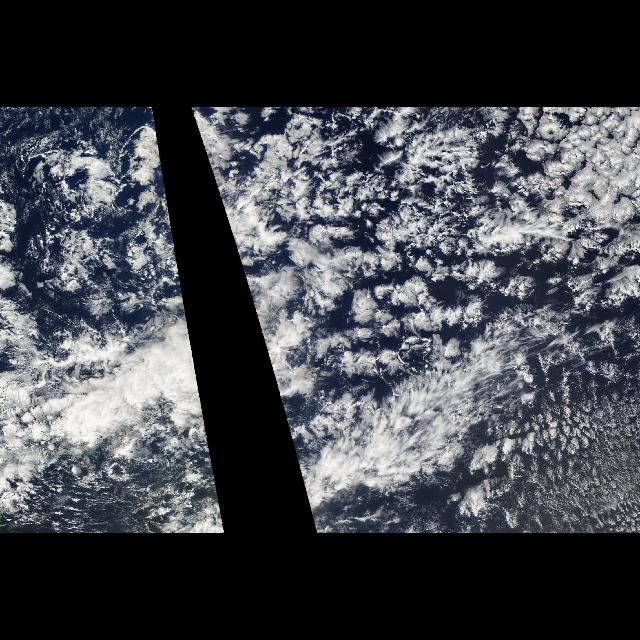Flower: (202, 107, 636, 391)
Gravel: (466, 394, 638, 532)
Sugar: (485, 385, 639, 533)
